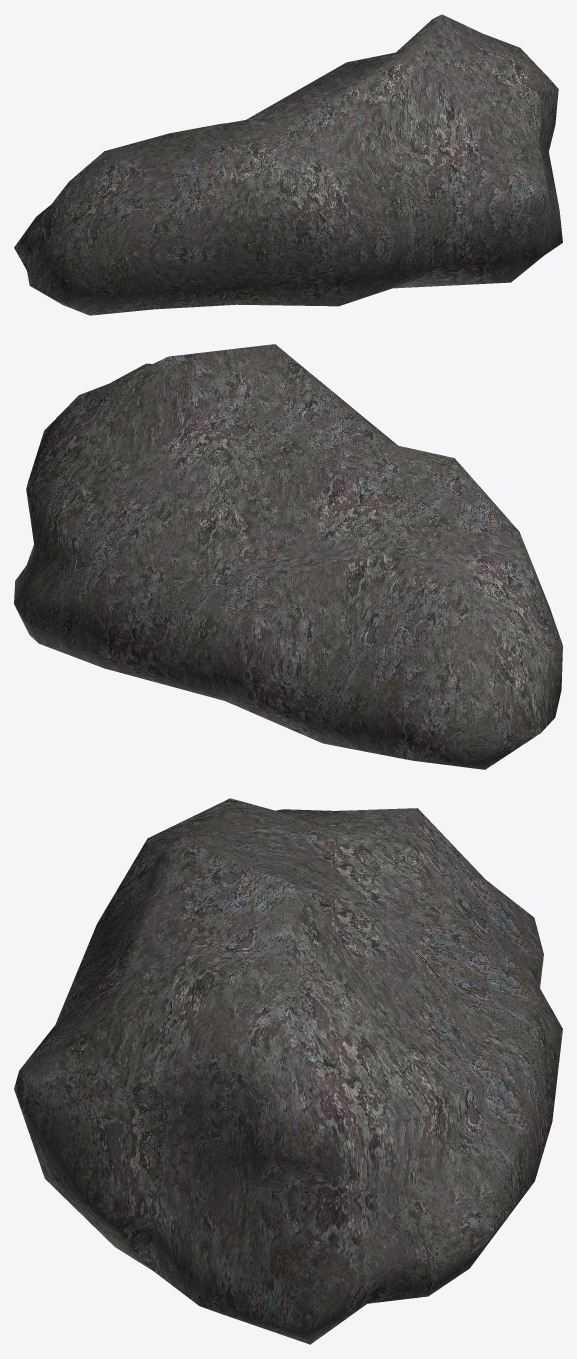
Rendered from rock_volcanorocka_l0.fbx.
The picture shows the model from 3 angles, top to bottom: view 1: azimuth 30°, elevation 25°; view 2: azimuth 150°, elevation 25°; view 3: azimuth 270°, elevation 25°; orthographic projection. The views are drawn at different scales.
Parts seen in each view (by area): view 1: mesh_node; view 2: mesh_node; view 3: mesh_node.
Boxes of the visible parts, bbox=[...] form: mesh_node: bbox=[14, 14, 562, 315]; mesh_node: bbox=[14, 344, 562, 769]; mesh_node: bbox=[14, 798, 562, 1344].
Size of the model in its own units: 18.39 by 9.72 by 11.78.
1 material, 1 textured.
